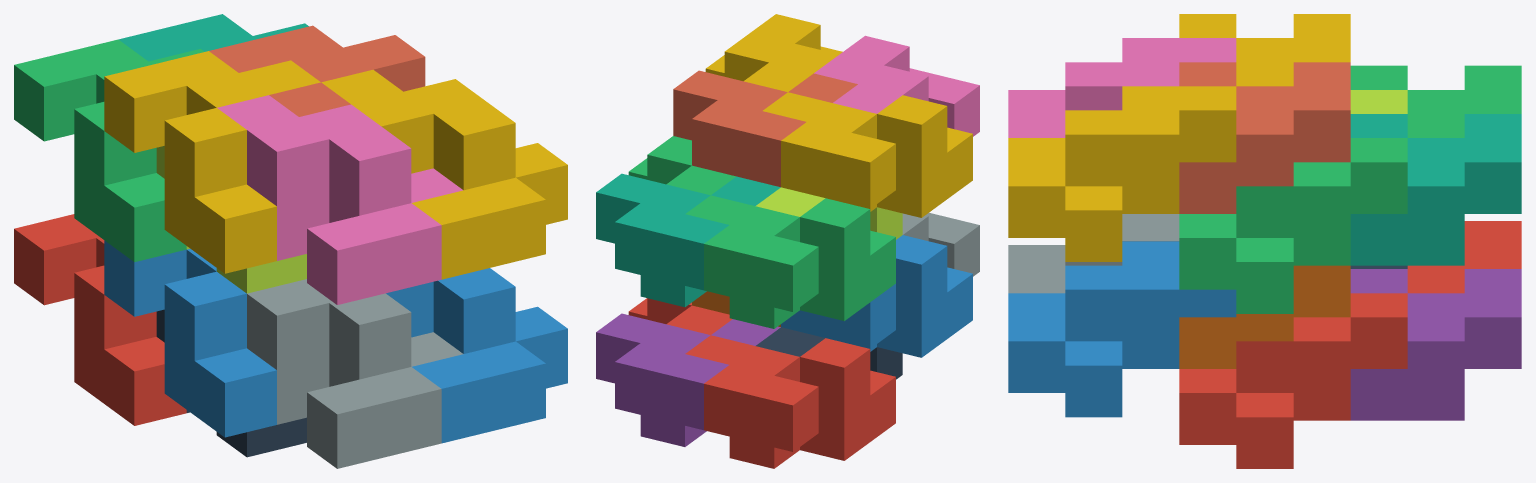
File: tiling.obj
3 views of the same model, side by side, from view 1: azimuth 30°, elevation 25°; view 2: azimuth 150°, elevation 25°; view 3: azimuth 270°, elevation 25° (orthographic). The views are drawn at different scales.
Visible parts, largest first — view 1: copy_2_domain_4, copy_2_domain_2, copy_1_domain_4, copy_2_domain_8, copy_2_domain_6, copy_1_domain_2, copy_1_domain_3, copy_1_domain_1, copy_1_domain_8, copy_1_domain_7, copy_2_domain_3, copy_2_domain_1; view 2: copy_1_domain_1, copy_1_domain_3, copy_1_domain_4, copy_1_domain_7, copy_1_domain_5, copy_1_domain_8, copy_1_domain_2, copy_2_domain_4, copy_2_domain_8, copy_2_domain_7, copy_2_domain_2, copy_2_domain_5 (+3 smaller); view 3: copy_2_domain_8, copy_2_domain_6, copy_2_domain_5, copy_2_domain_7, copy_1_domain_5, copy_1_domain_7, copy_1_domain_8, copy_2_domain_4, copy_1_domain_6, copy_1_domain_4, copy_1_domain_3, copy_2_domain_2 (+2 smaller).
Boxes of the visible parts, x1,y1,x2,y2 form: copy_2_domain_4: (217,95,462,304); copy_2_domain_2: (247,279,463,468); copy_1_domain_4: (104,51,320,273); copy_2_domain_8: (321,69,567,279); copy_2_domain_6: (386,268,567,443); copy_1_domain_2: (104,240,276,437); copy_1_domain_3: (14,39,204,262); copy_1_domain_1: (14,214,186,425); copy_1_domain_8: (209,25,425,116); copy_1_domain_7: (118,14,308,61); copy_2_domain_3: (156,146,306,293); copy_2_domain_1: (156,309,306,457); copy_1_domain_1: (685,335,895,468); copy_1_domain_3: (685,195,895,328); copy_1_domain_4: (763,92,972,217); copy_1_domain_7: (596,173,780,307); copy_1_domain_5: (596,313,780,446); copy_1_domain_8: (673,70,857,187); copy_1_domain_2: (781,235,972,357); copy_2_domain_4: (814,35,979,136); copy_2_domain_8: (705,14,842,91); copy_2_domain_7: (628,136,736,195); copy_2_domain_2: (902,212,979,276); copy_2_domain_5: (628,298,732,334); copy_2_domain_8: (1008,86,1236,261); copy_2_domain_6: (1008,241,1236,417); copy_2_domain_5: (1179,293,1407,468); copy_2_domain_7: (1179,138,1407,313); copy_1_domain_5: (1350,269,1521,420); copy_1_domain_7: (1350,114,1521,265); copy_1_domain_8: (1179,62,1350,213); copy_2_domain_4: (1008,38,1236,137); copy_1_domain_6: (1179,265,1350,368); copy_1_domain_4: (1179,14,1350,86); copy_1_domain_3: (1350,65,1521,137); copy_2_domain_2: (1008,214,1179,293).
Bounding box in the file's own units: 6 × 6 × 9.
